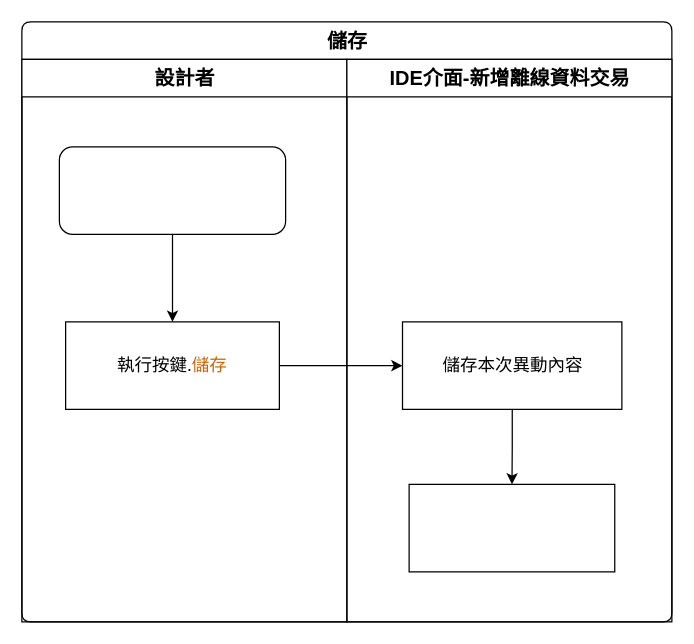
This 694x644 diagram has some shape labels left out. Here are the shapes that lost their labels. From the top down, the centre of each, then its label:
the point at 172,190: 開啟<新增離線資料交易>
the point at 511,527: 回傳交易名稱至前單 關閉本單
